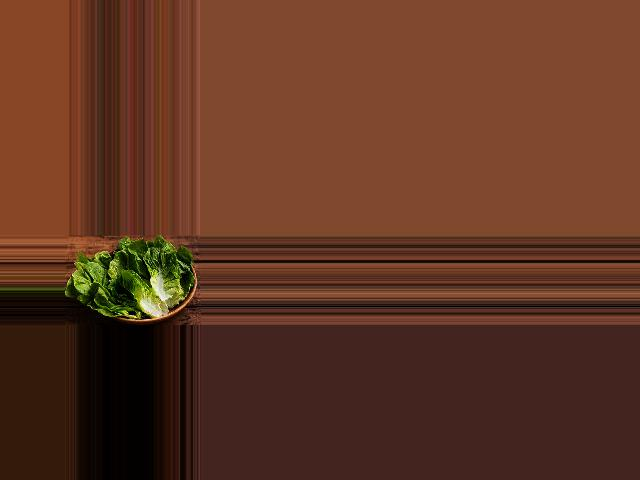lettuce: (67, 240, 202, 324)
